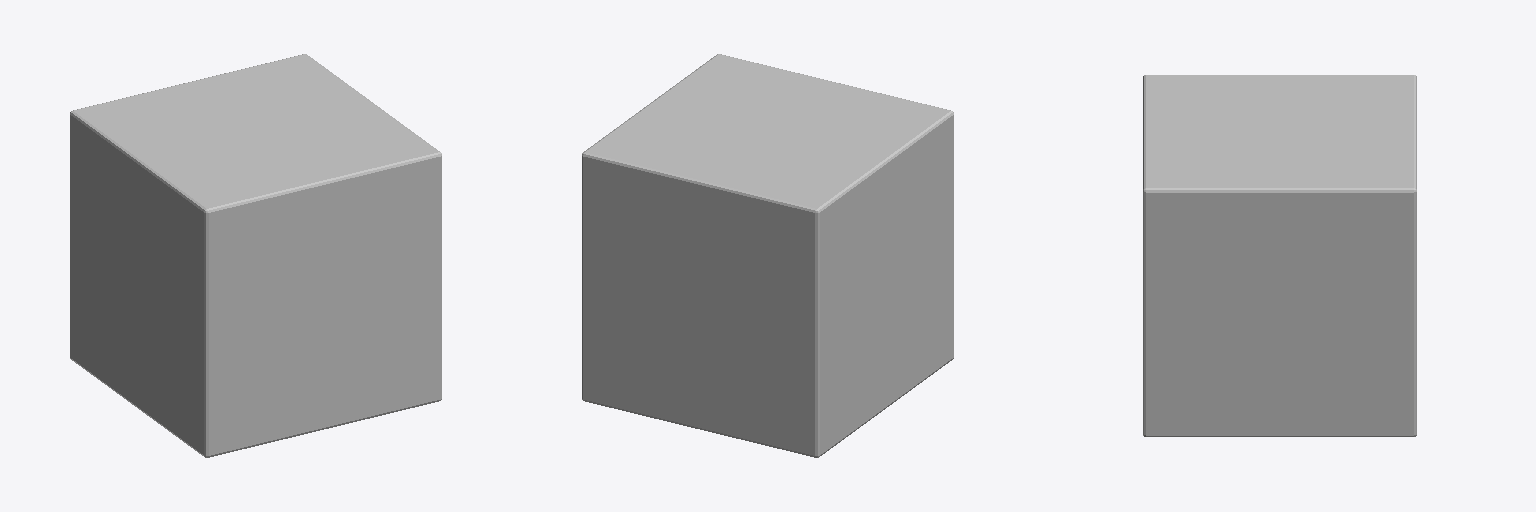
Rendered from BoxM.obj.
The picture shows the model from 3 angles: view 1: azimuth 30°, elevation 25°; view 2: azimuth 150°, elevation 25°; view 3: azimuth 270°, elevation 25°; orthographic projection.
Parts seen in each view (by area): view 1: 290x290x290_1; view 2: 290x290x290_1; view 3: 290x290x290_1.
Boxes of the visible parts, x1=… form: 290x290x290_1: x1=70, y1=54, x2=441, y2=457; 290x290x290_1: x1=582, y1=54, x2=953, y2=457; 290x290x290_1: x1=1143, y1=75, x2=1416, y2=436.
Bounding box in the file's own units: 29 × 29 × 29.